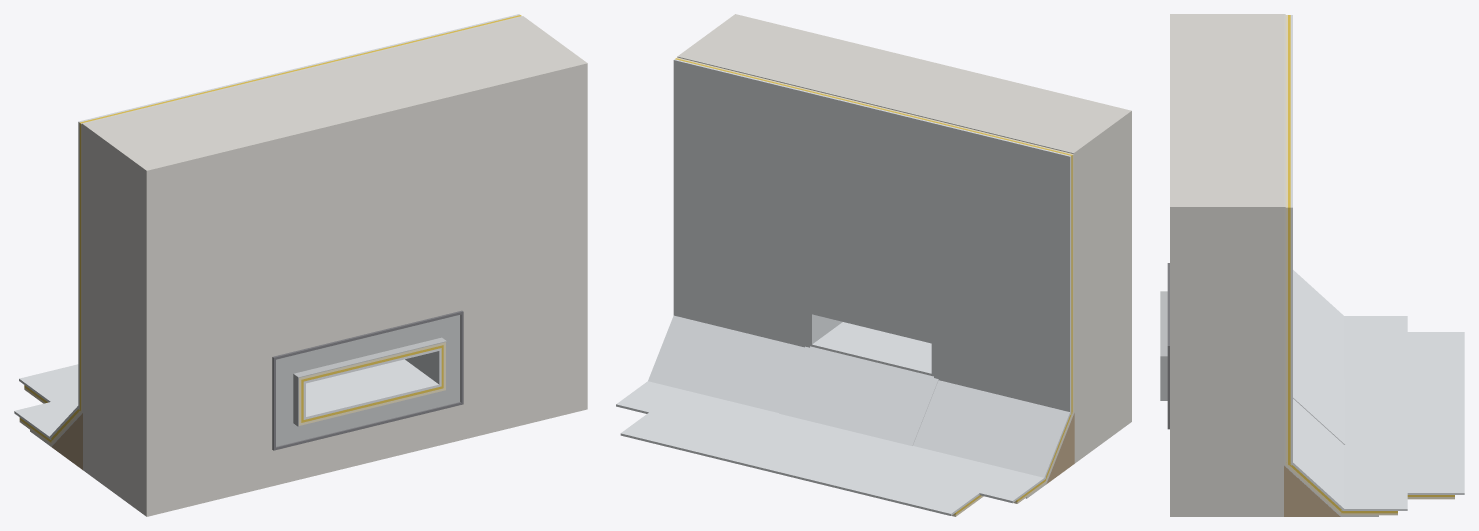
The model's file is overflow-scupper-D-4-TYP.glb.
3 views of the same model, side by side, from view 1: azimuth 30°, elevation 25°; view 2: azimuth 150°, elevation 25°; view 3: azimuth 270°, elevation 25° (orthographic). The views are drawn at different scales.
Visible parts, largest first — view 1: existing__parapet_left, existing__parapet_right, existing__parapet_above, existing__parapet_below, topcoat__topcoat_lining_bottom, existing__collar_top, existing__collar_bottom, topcoat__topcoat_apron, existing__cant, existing__tube_top, existing__collar_left, topcoat__topcoat_wall_left (+5 smaller); view 2: topcoat__topcoat_wall_left, topcoat__topcoat_wall_right, topcoat__topcoat_wall_above, existing__parapet_left, topcoat__topcoat_apron, topcoat__topcoat_flange, topcoat__topcoat_cant_left, topcoat__topcoat_cant_right, topcoat__topcoat_foot_over, existing__parapet_above, existing__parapet_right, topcoat__topcoat_lining_bottom (+4 smaller); view 3: existing__parapet_right, topcoat__topcoat_apron, topcoat__topcoat_foot_over, existing__parapet_above, existing__parapet_left, topcoat__topcoat_flange, topcoat__topcoat_cant_right, topcoat__topcoat_cant_left, existing__cant, topcoat__topcoat_wall_right, flex__flex_wall_right, primer__primer_wall_right (+5 smaller).
Part boxes in pixels (box(x1,y1,x2,y2)): existing__parapet_left: box(83, 88, 292, 516); existing__parapet_right: box(378, 17, 587, 444); existing__parapet_above: box(229, 52, 441, 351); existing__parapet_below: box(293, 410, 441, 481); topcoat__topcoat_lining_bottom: box(303, 359, 441, 419); existing__collar_top: box(276, 315, 460, 377); existing__collar_bottom: box(276, 383, 460, 446); topcoat__topcoat_apron: box(19, 364, 78, 411); existing__cant: box(51, 413, 82, 469); existing__tube_top: box(293, 338, 446, 377); existing__collar_left: box(276, 374, 293, 427); topcoat__topcoat_wall_left: box(78, 84, 230, 409); topcoat__topcoat_wall_left: box(934, 122, 1071, 414); topcoat__topcoat_wall_right: box(673, 59, 810, 347); topcoat__topcoat_wall_above: box(810, 92, 934, 341); existing__parapet_left: box(943, 78, 1131, 463); topcoat__topcoat_apron: box(620, 404, 989, 515); topcoat__topcoat_flange: box(779, 346, 938, 445); topcoat__topcoat_cant_left: box(913, 380, 1069, 477); topcoat__topcoat_cant_right: box(648, 315, 804, 412); topcoat__topcoat_foot_over: box(627, 381, 1045, 494); existing__parapet_above: box(810, 46, 999, 120); existing__parapet_right: box(678, 14, 866, 87); topcoat__topcoat_lining_bottom: box(810, 322, 933, 376); existing__parapet_right: box(1170, 143, 1283, 516); topcoat__topcoat_apron: box(1383, 332, 1464, 494); topcoat__topcoat_foot_over: box(1341, 316, 1386, 510); existing__parapet_above: box(1170, 78, 1283, 142); existing__parapet_left: box(1170, 14, 1283, 77); topcoat__topcoat_flange: box(1293, 333, 1345, 444); topcoat__topcoat_cant_right: box(1293, 399, 1344, 509); topcoat__topcoat_cant_left: box(1293, 270, 1344, 378); existing__cant: box(1284, 465, 1340, 516); topcoat__topcoat_wall_right: box(1290, 141, 1292, 465); flex__flex_wall_right: box(1288, 142, 1290, 465); primer__primer_wall_right: box(1285, 143, 1287, 464).
Size of the model in its own units: 1.22 by 0.9144 by 0.8128.
